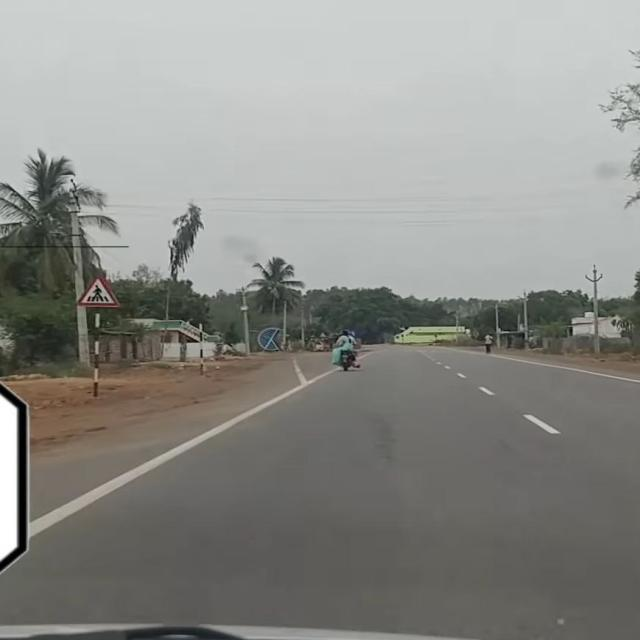Pedestrain_crossing: (78, 275, 120, 308)
